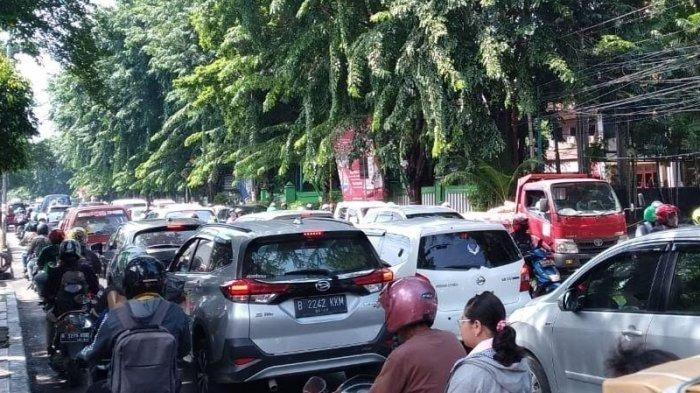plate: (295, 298, 348, 317), (59, 332, 88, 343)
